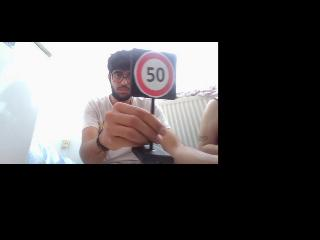Speedlimit_50: (134, 49, 176, 99)
